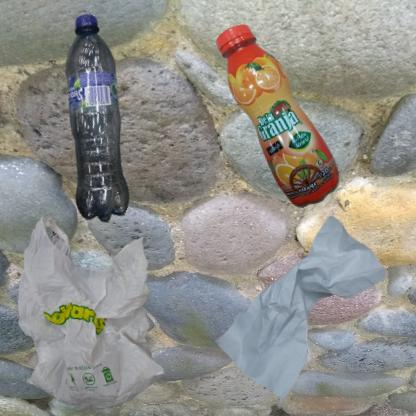bolsa: (10, 213, 177, 416)
botella: (10, 10, 217, 272), (213, 10, 363, 249)
papel: (213, 213, 388, 409)
